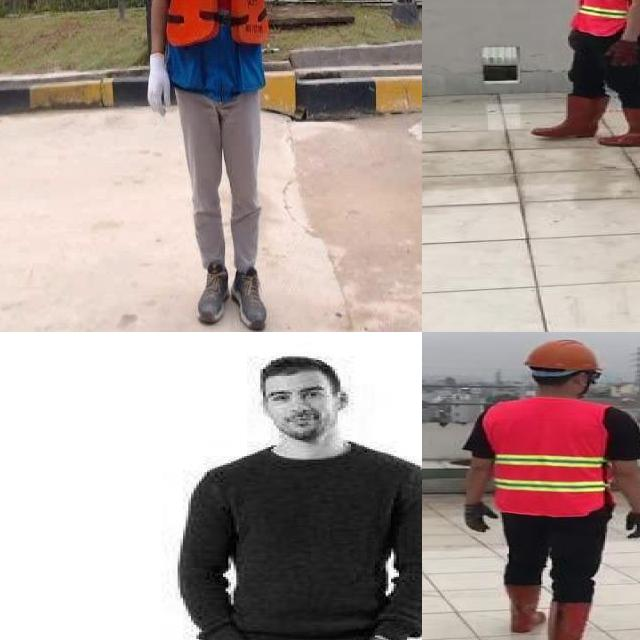No_Ear-Protection: (330, 386, 351, 418)
No_Glasses: (263, 381, 326, 408)
boots: (532, 96, 610, 140), (232, 267, 269, 332), (197, 259, 232, 325), (544, 599, 597, 640), (502, 582, 544, 633), (601, 106, 640, 146)
face_nomask: (272, 407, 334, 439)
hand_glove: (466, 502, 495, 533), (606, 41, 638, 68), (624, 510, 640, 542)
head_helmet: (522, 336, 604, 374)
person: (171, 353, 422, 640), (123, 0, 306, 332), (461, 335, 640, 640), (529, 0, 640, 149)
vest: (482, 398, 618, 515), (157, 0, 273, 95), (569, 0, 640, 39)
